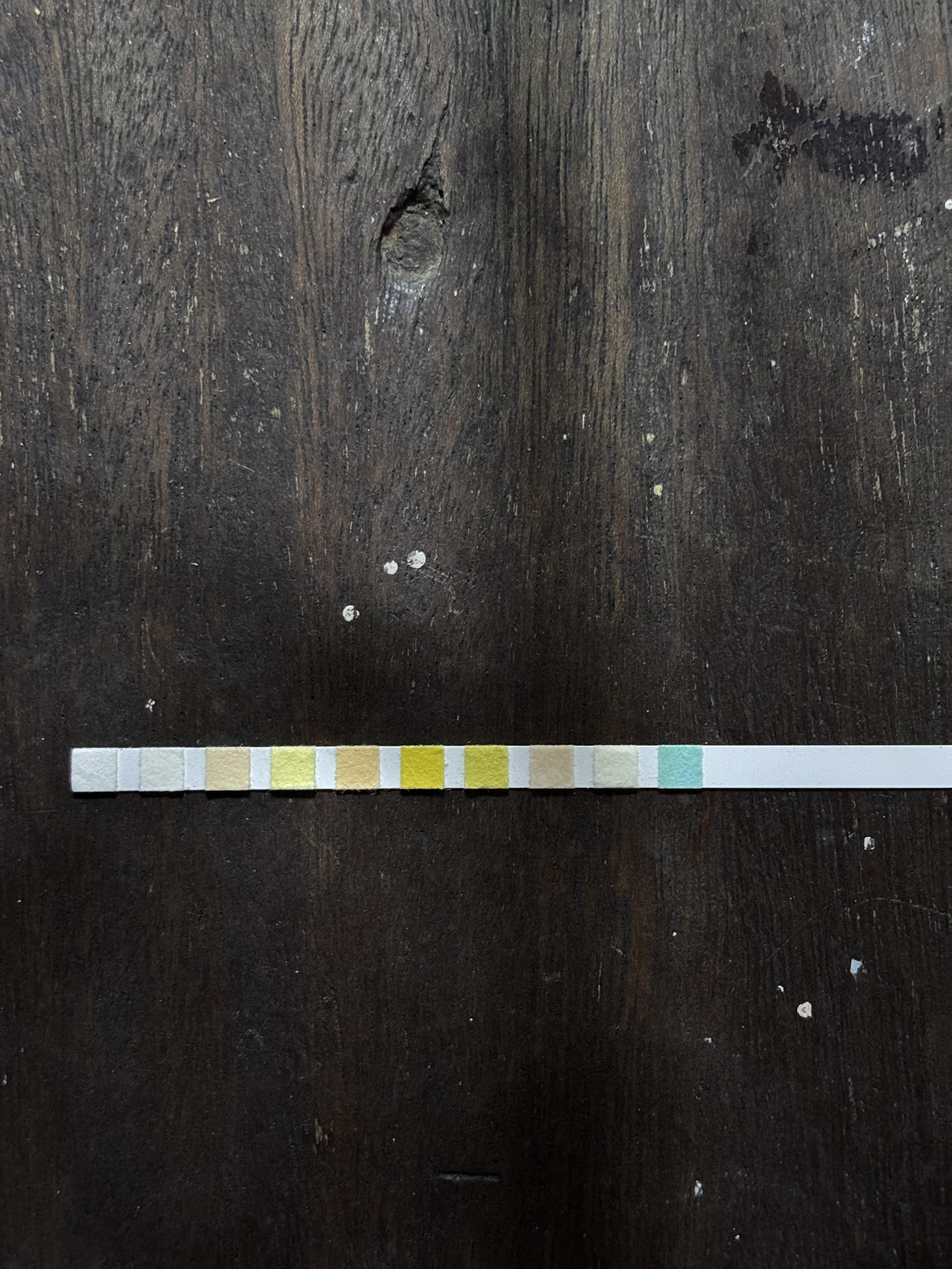Bilirubin: (596, 747, 638, 788)
Blood: (402, 747, 445, 788)
Glucose: (660, 748, 703, 786)
Ketone: (532, 747, 574, 786)
Leukocytes: (72, 751, 116, 789)
Nitrite: (142, 750, 182, 789)
Protein: (272, 749, 316, 787)
SpGravity: (466, 747, 508, 788)
Urobilinogen: (207, 749, 250, 789)
pH: (338, 748, 379, 787)
strip: (71, 745, 951, 791)
